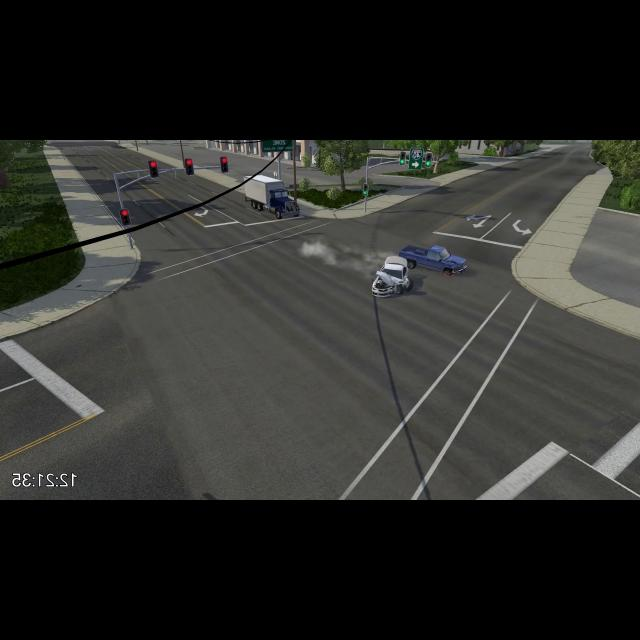accident: (367, 241, 471, 306)
